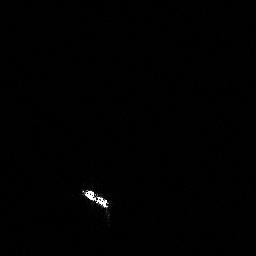ship: (78, 183, 112, 217)
